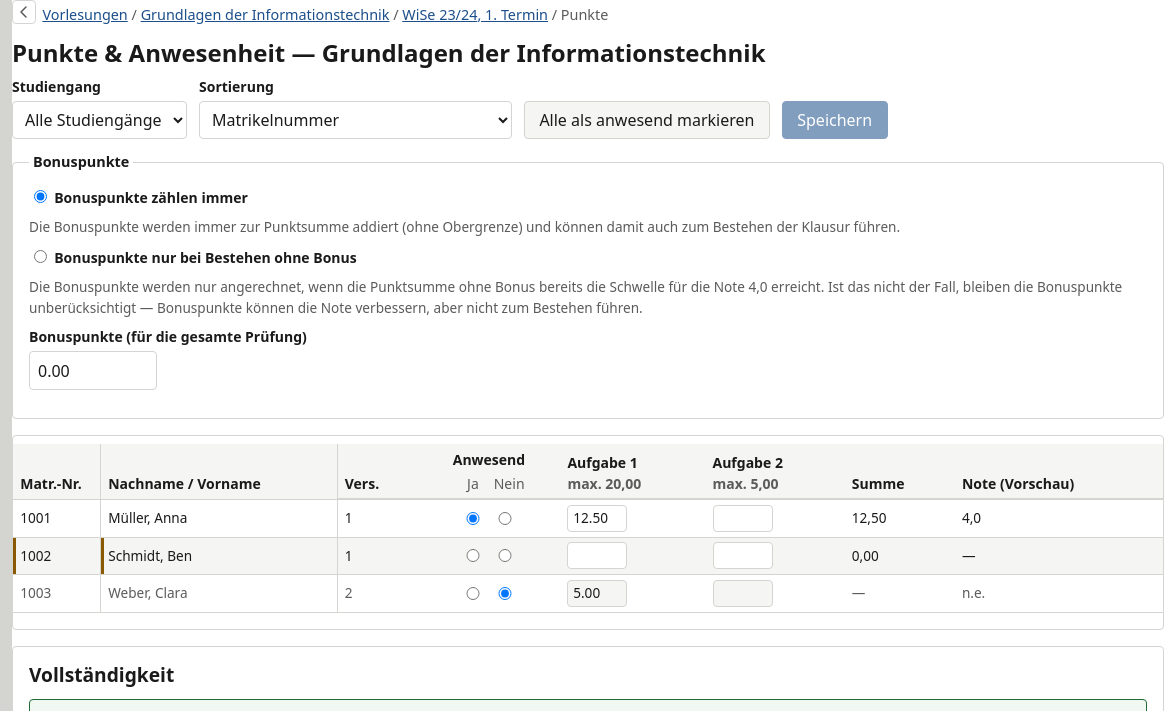
it: PointsEntryPage — bonus mode (§7.3, moved here from ExamDetailPage) › marks the page dirty (shows the unsaved-changes indicator) when the mode is changed
Expected: the row with test id "points-row-1" is shown, [13,500,1163,538]
Step 1. Click the radio button labelled "Bonuspunkte nur bei Bestehen ohne Bonus" → (40, 257), box [34,250,47,263]
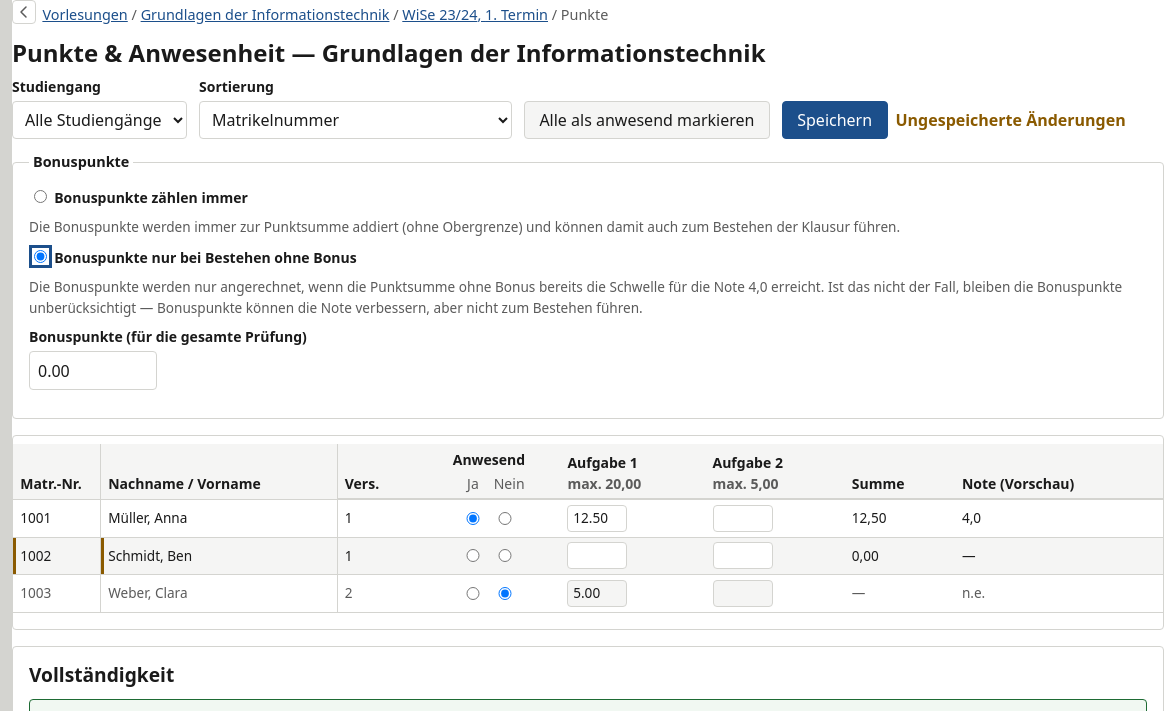
Now the text "Ungespeicherte Änderungen" is shown, box [896,108,1126,132]
